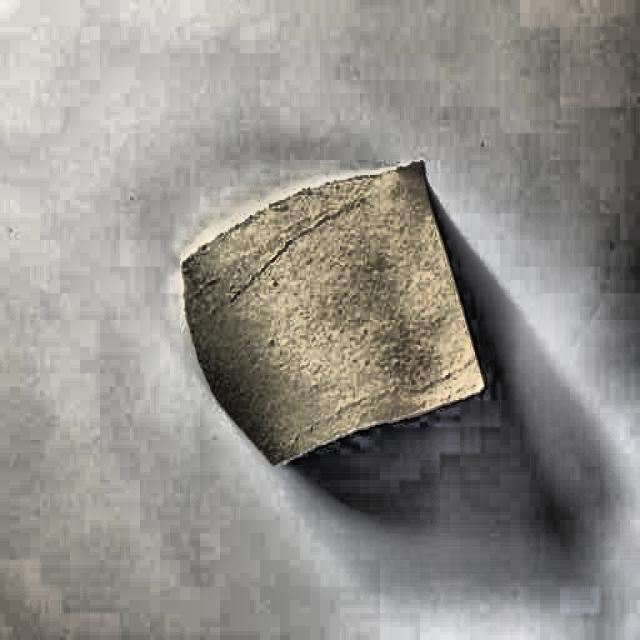paper: (178, 157, 486, 470)
